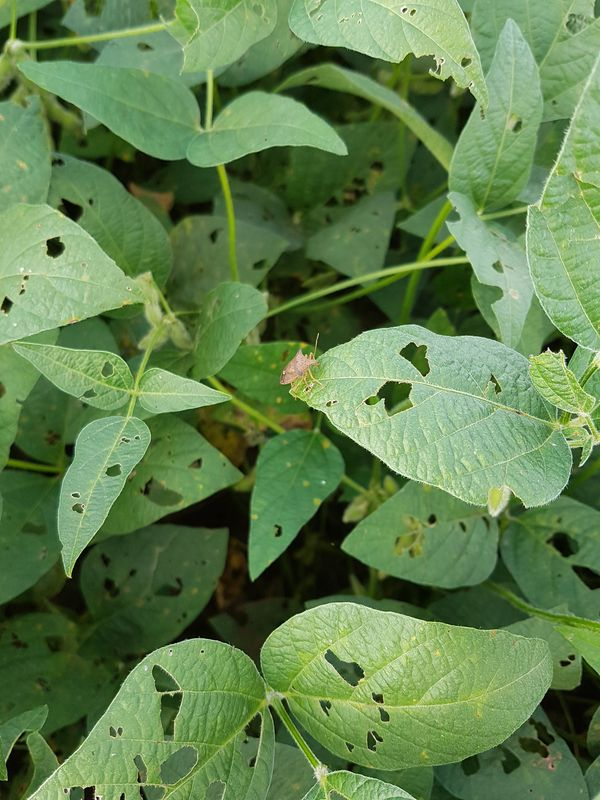Euschistus_heros_adulto: (270, 332, 332, 396)
